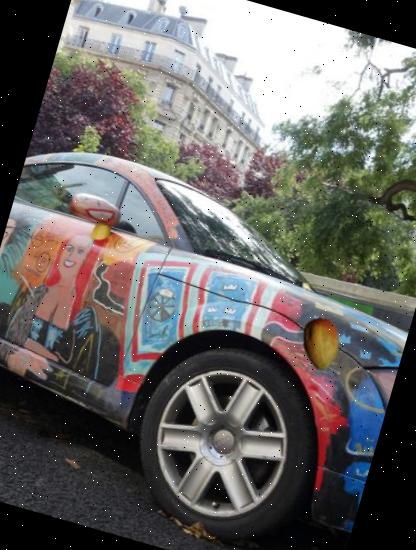Papaya: (287, 310, 355, 377)
